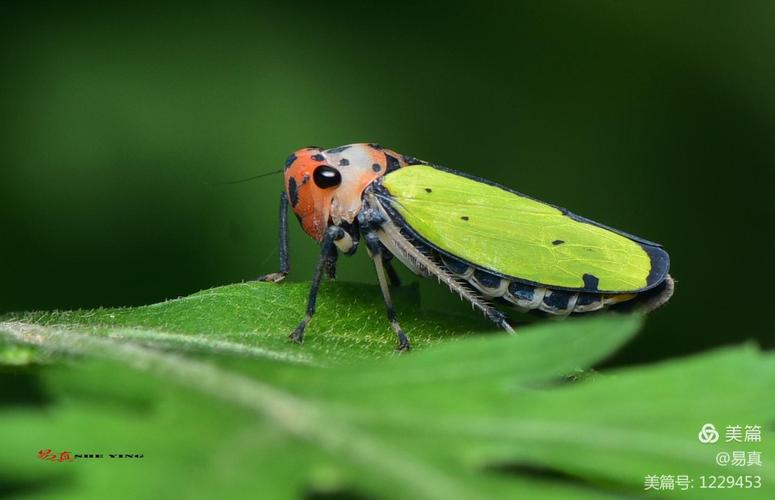Cicadellidae: (260, 142, 675, 356)
